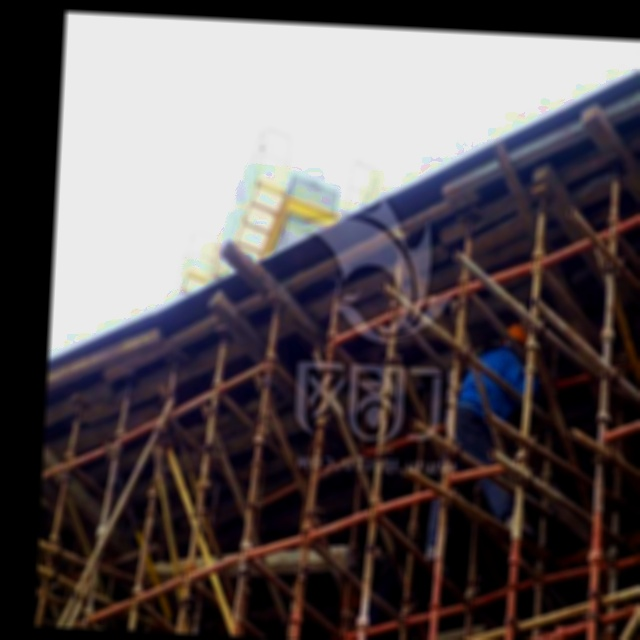Con_Casco: (502, 321, 529, 356)
